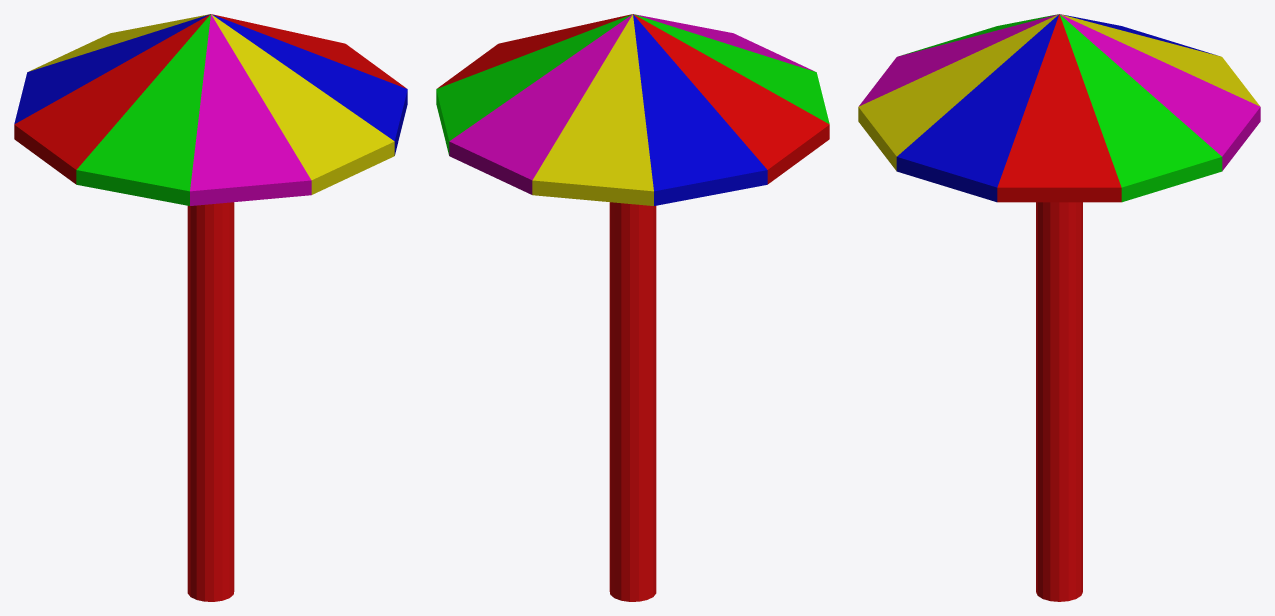
File: devil wheel.fbx
3 views of the same model, side by side, from view 1: azimuth 30°, elevation 25°; view 2: azimuth 150°, elevation 25°; view 3: azimuth 270°, elevation 25° (orthographic).
Parts seen in each view (by area): view 1: Cylinder; view 2: Cylinder; view 3: Cylinder.
Boxes of the visible parts, x1,y1,x2,y2 form: Cylinder: [14, 14, 407, 601]; Cylinder: [436, 14, 829, 601]; Cylinder: [858, 14, 1260, 601].
Size of the model in its own units: 5.36 by 8.93 by 5.63.
